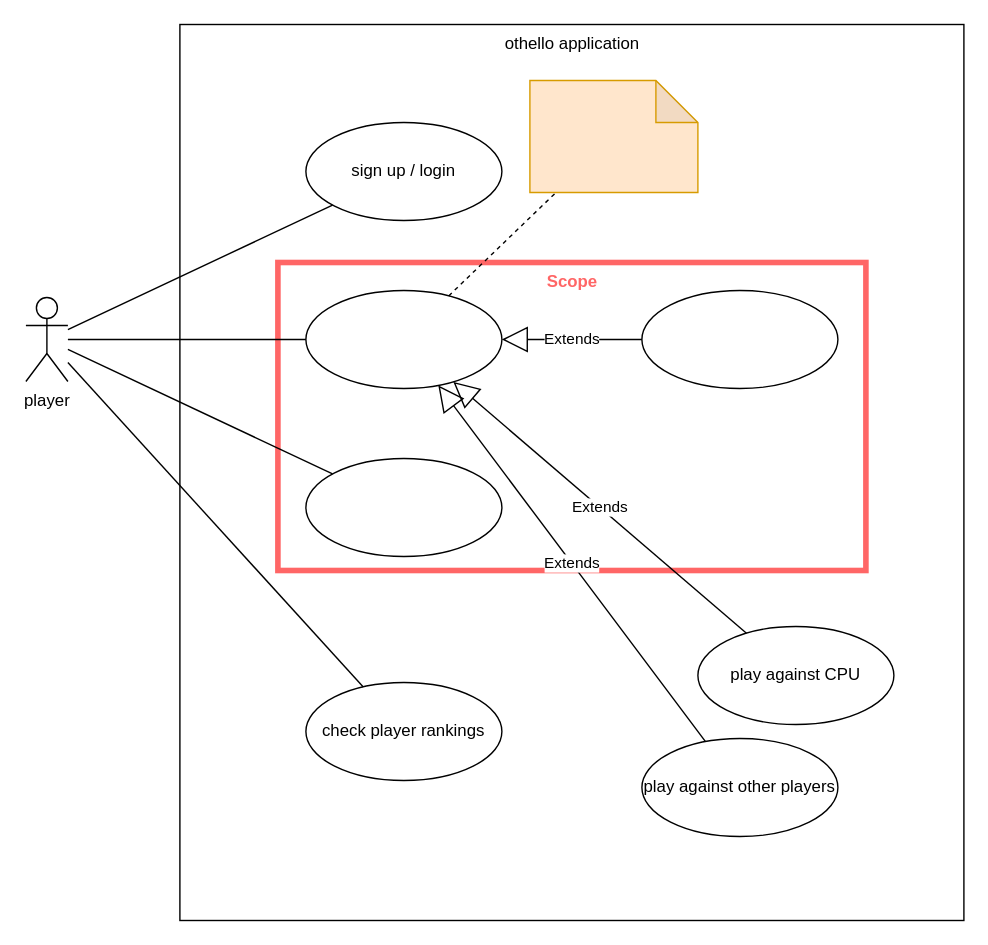
This 988x945 diagram has some shape labels left out. The centre of each missing label's shape, as x and y in pixels:
- start game - see a board - put discs - check winner: point (613, 135)
1 player put 2 types of discs: point (739, 338)
check game history: point (403, 506)
play a game: point (403, 338)
